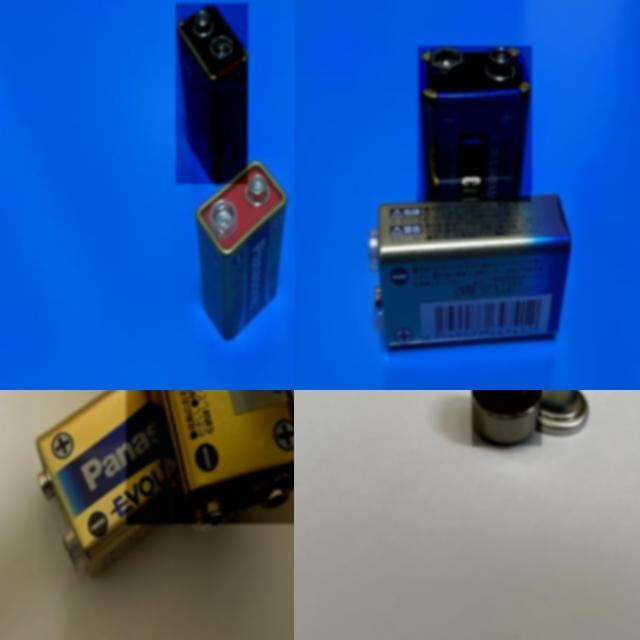9V: (370, 193, 574, 347), (32, 390, 175, 568), (126, 390, 294, 524), (418, 46, 532, 203), (195, 160, 288, 340), (176, 3, 249, 184)
